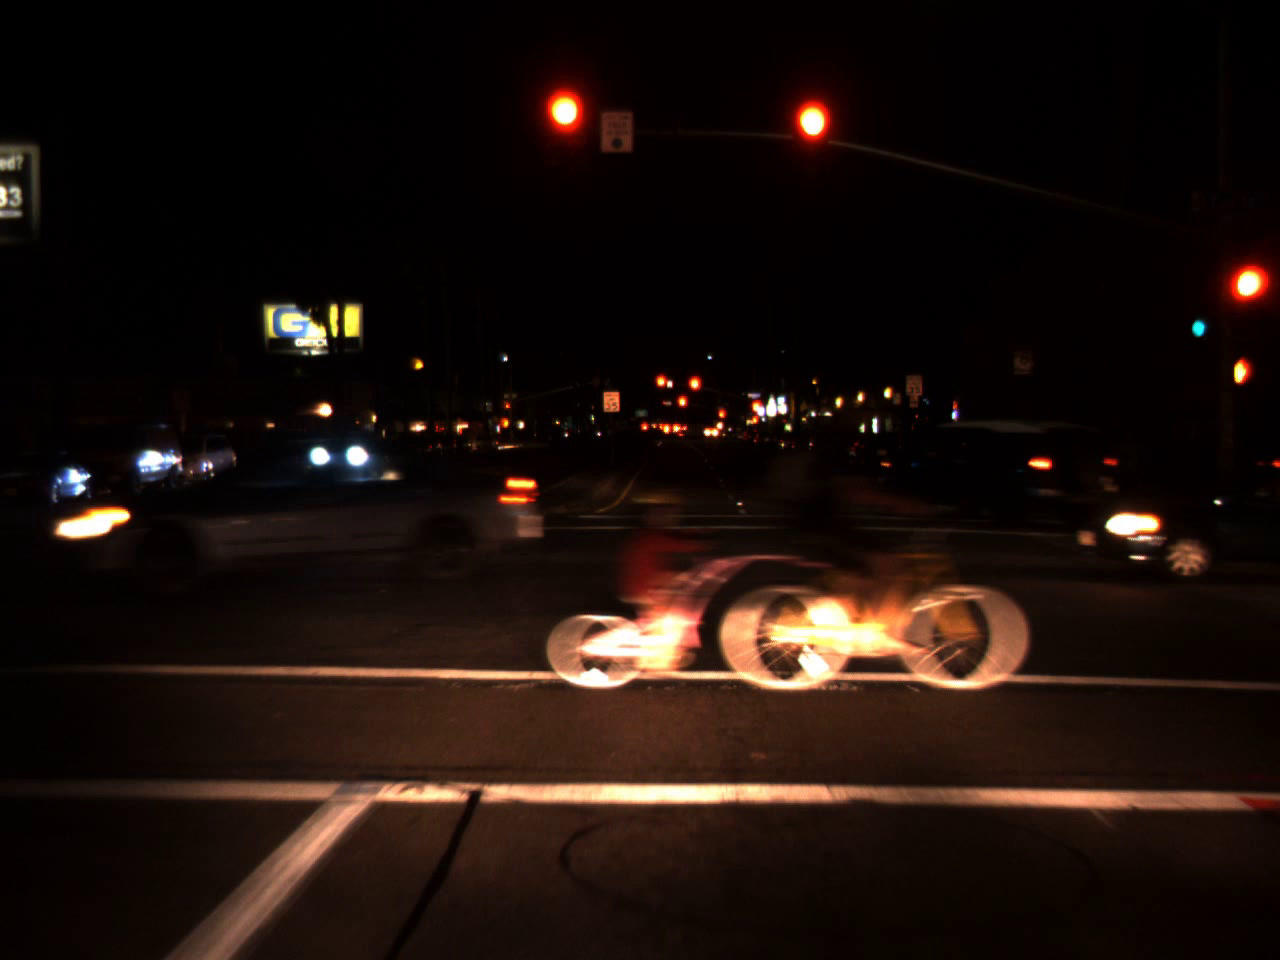stop: (1224, 264, 1267, 331), (792, 101, 829, 176), (548, 93, 584, 168), (686, 373, 702, 408), (654, 373, 670, 400), (749, 397, 764, 421), (677, 393, 689, 419), (717, 408, 726, 429), (505, 401, 511, 414)
